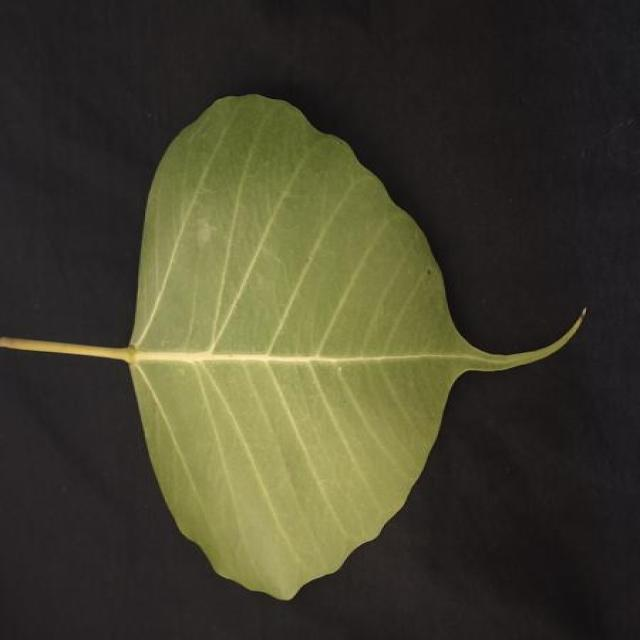arali: (2, 95, 585, 599)
